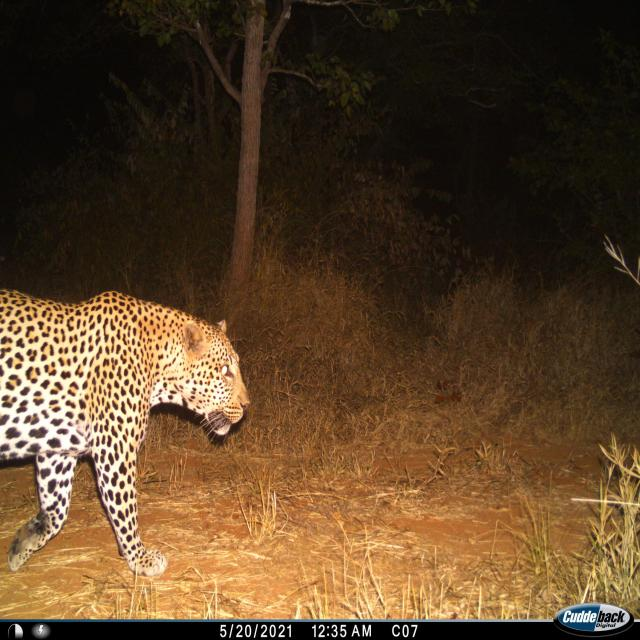Leopard: (7, 273, 245, 599)
